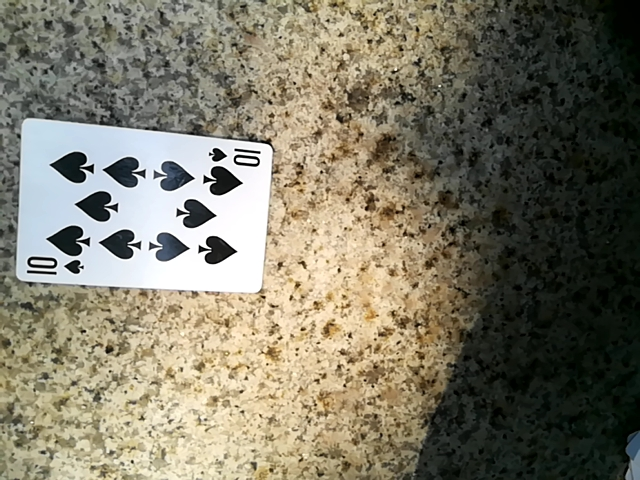ht 10: (16, 113, 273, 287)
